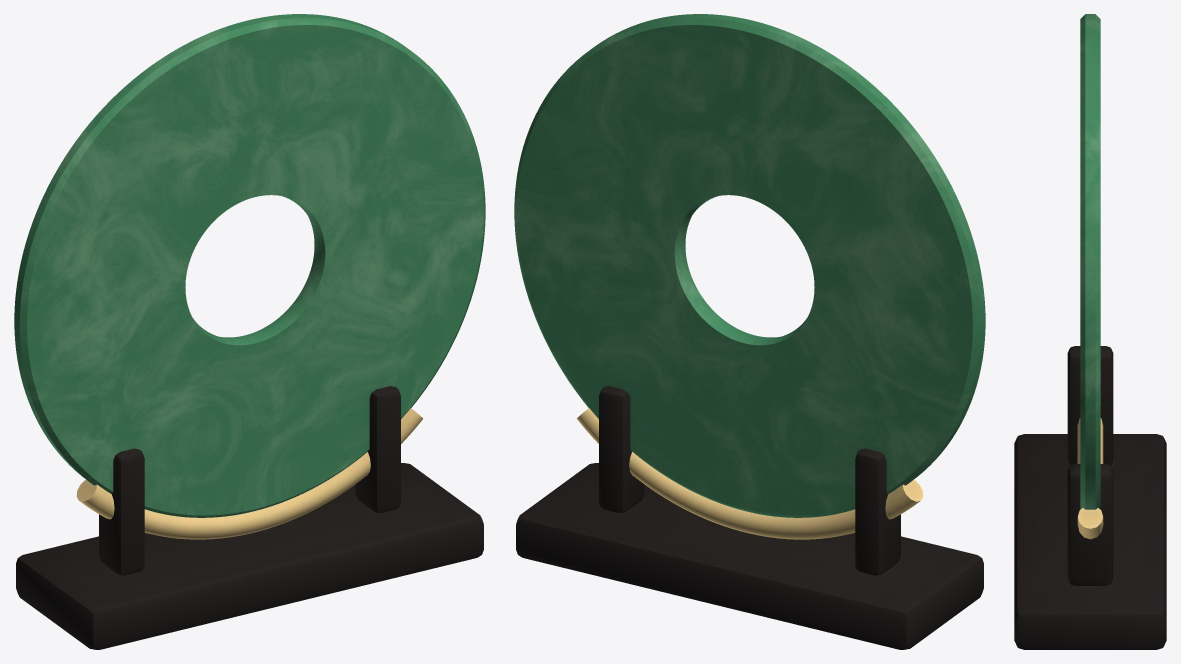
The model's file is bi_disc.glb.
3 renders of one model, left to right at view 1: azimuth 30°, elevation 25°; view 2: azimuth 150°, elevation 25°; view 3: azimuth 270°, elevation 25°, orthographic. The views are drawn at different scales.
Parts seen in each view (by area): view 1: bi_disc; view 2: bi_disc; view 3: bi_disc.
Boxes of the visible parts, x1=… form: bi_disc: x1=14, y1=14, x2=485, y2=649; bi_disc: x1=514, y1=14, x2=985, y2=649; bi_disc: x1=1014, y1=14, x2=1166, y2=649.
Size of the model in its own units: 0.2 by 0.228 by 0.06.
1 material, 1 textured.
